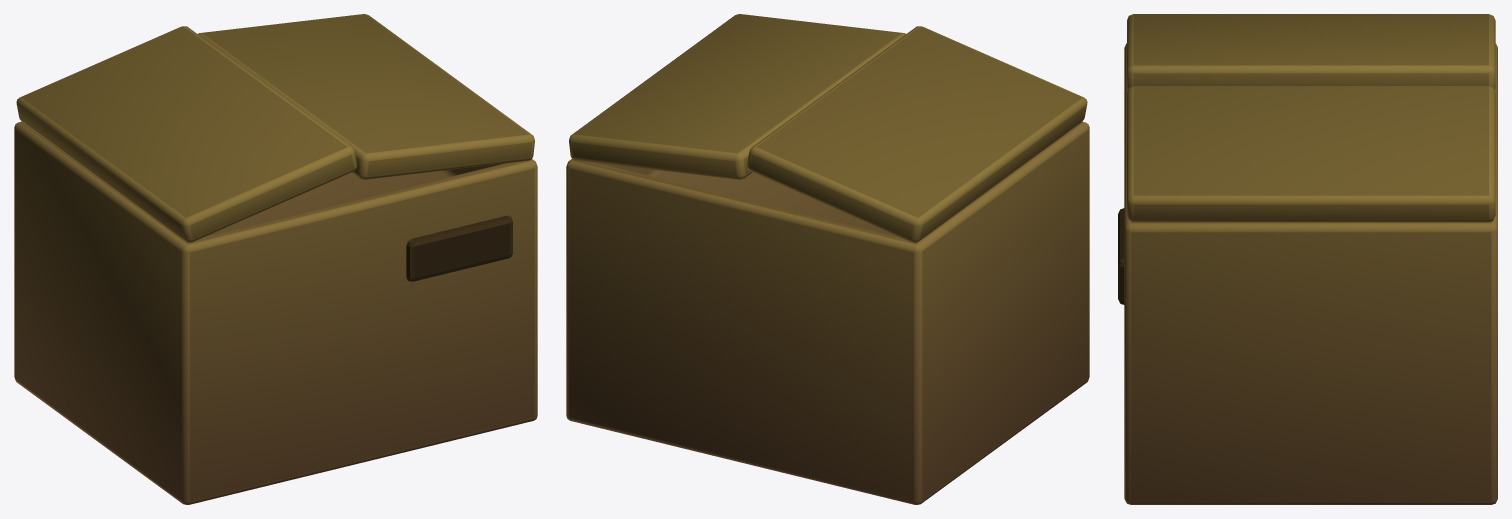
3 views of the same model, side by side, from view 1: azimuth 30°, elevation 25°; view 2: azimuth 150°, elevation 25°; view 3: azimuth 270°, elevation 25° (orthographic). The views are drawn at different scales.
Visible parts, largest first — view 1: box; view 2: box; view 3: box.
Boxes of the visible parts, <box> form: box: <box>14,14,537,504</box>; box: <box>566,14,1089,504</box>; box: <box>1118,14,1497,504</box>.
Size of the model in its own units: 200 by 171 by 171.
